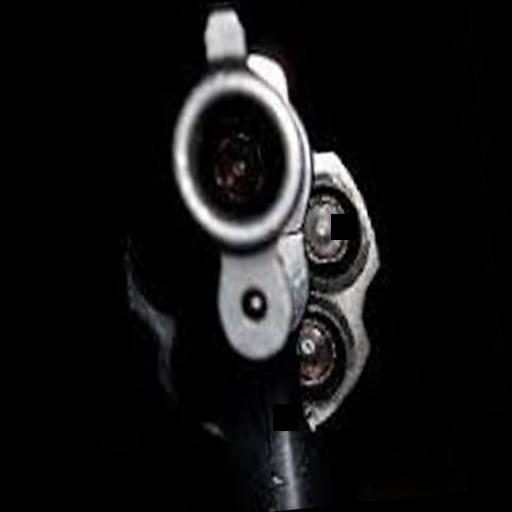Handgun: (94, 0, 401, 512)
